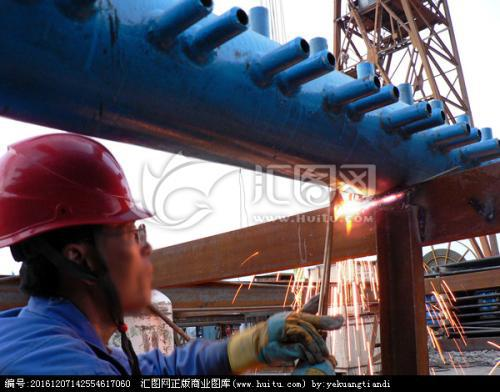helmet: (1, 101, 177, 332)
